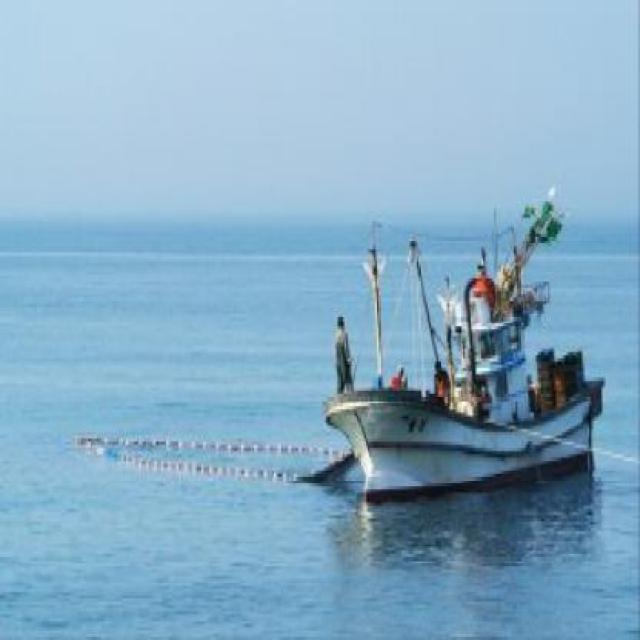fish-b: (315, 174, 618, 523)
